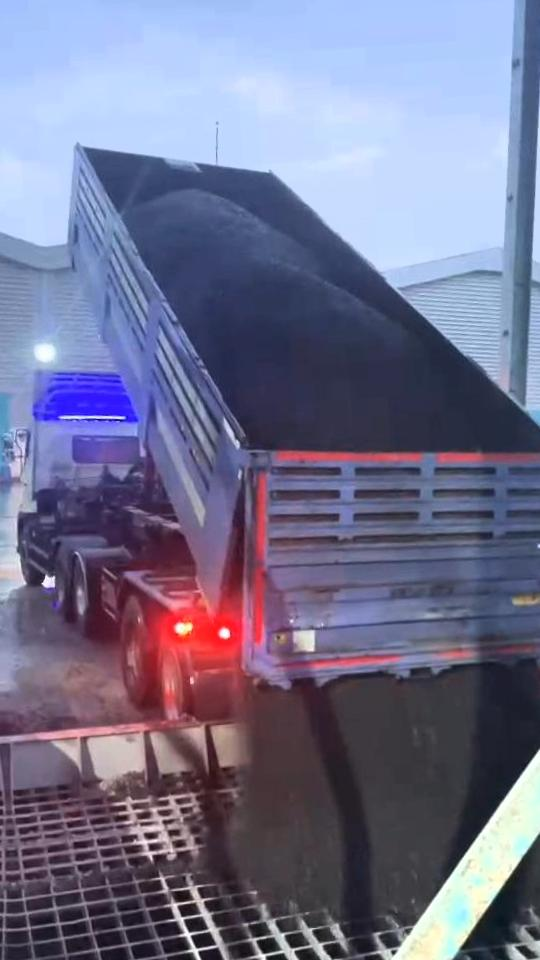gravel: (126, 191, 486, 450), (233, 662, 540, 921), (501, 796, 540, 915)
